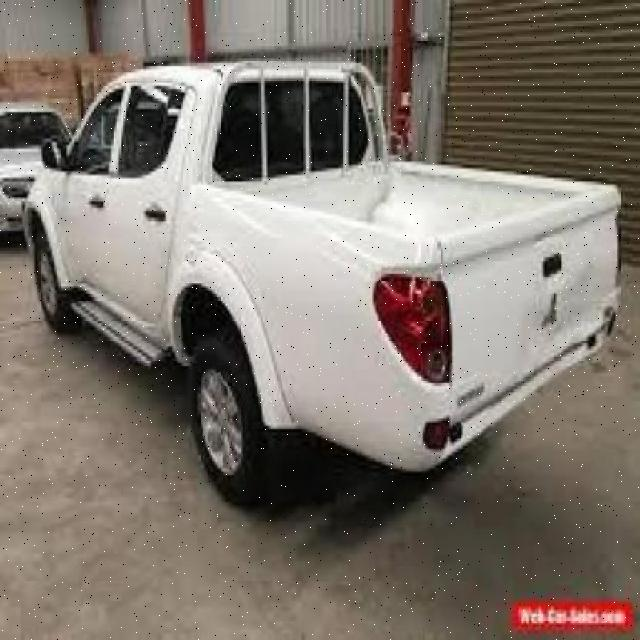damage: (527, 267, 594, 375)
